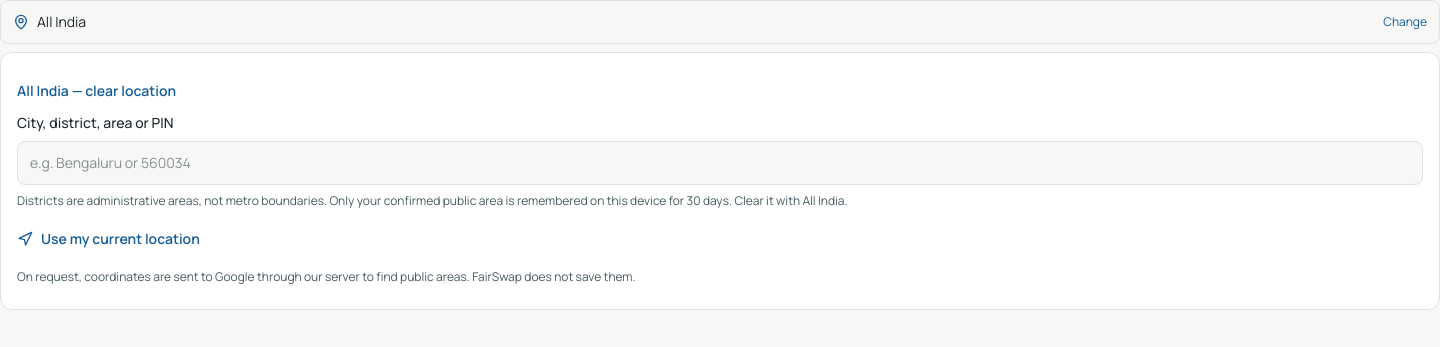
Test: location-aware discovery › handles device error 2
The image size is (1440, 347).
Click the button "Use my current location" at (108, 239), box top-left (17, 217), bottom-right (200, 261)
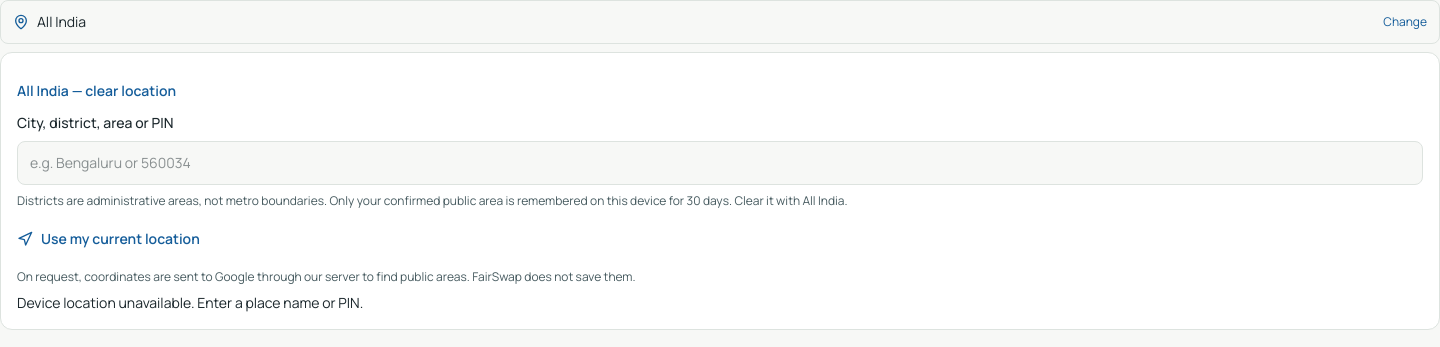
Now the message shows "unavailable", box top-left (17, 293), bottom-right (363, 312)
